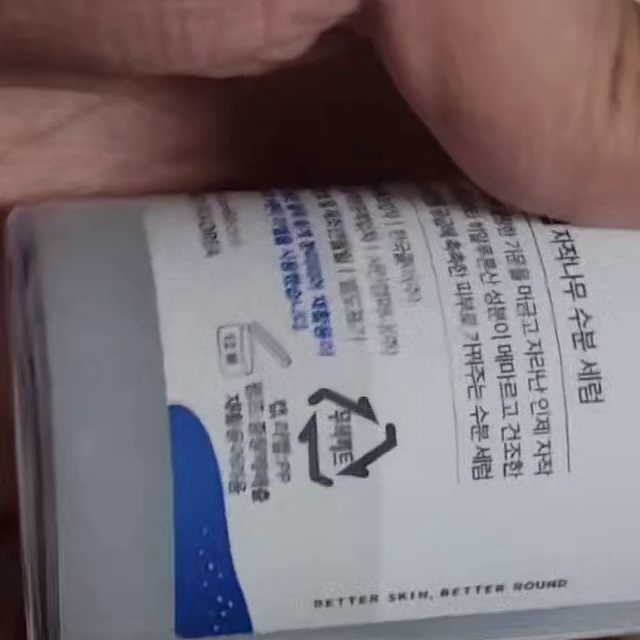ColorlessPet: (297, 385, 401, 490)
